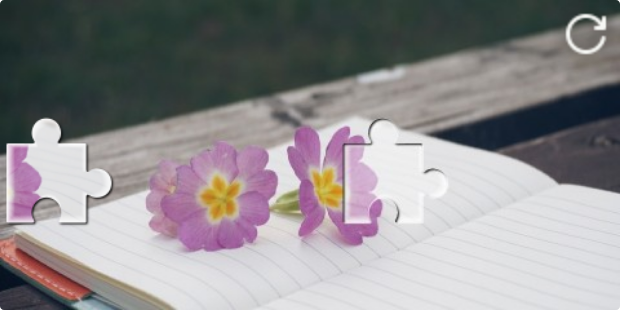target: (342, 118, 447, 224)
